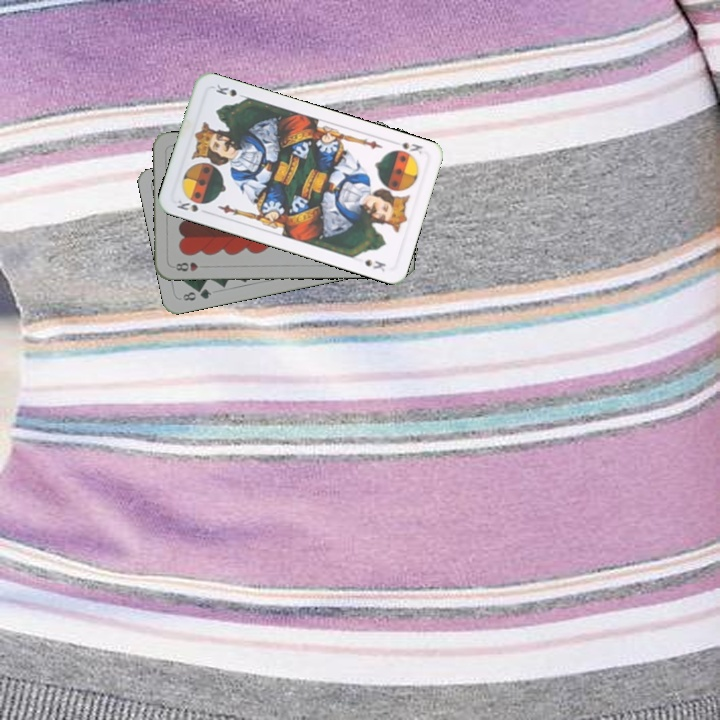G8: (179, 284, 214, 303)
H8: (169, 258, 209, 274)
SK: (173, 195, 208, 215), (397, 138, 425, 157)
